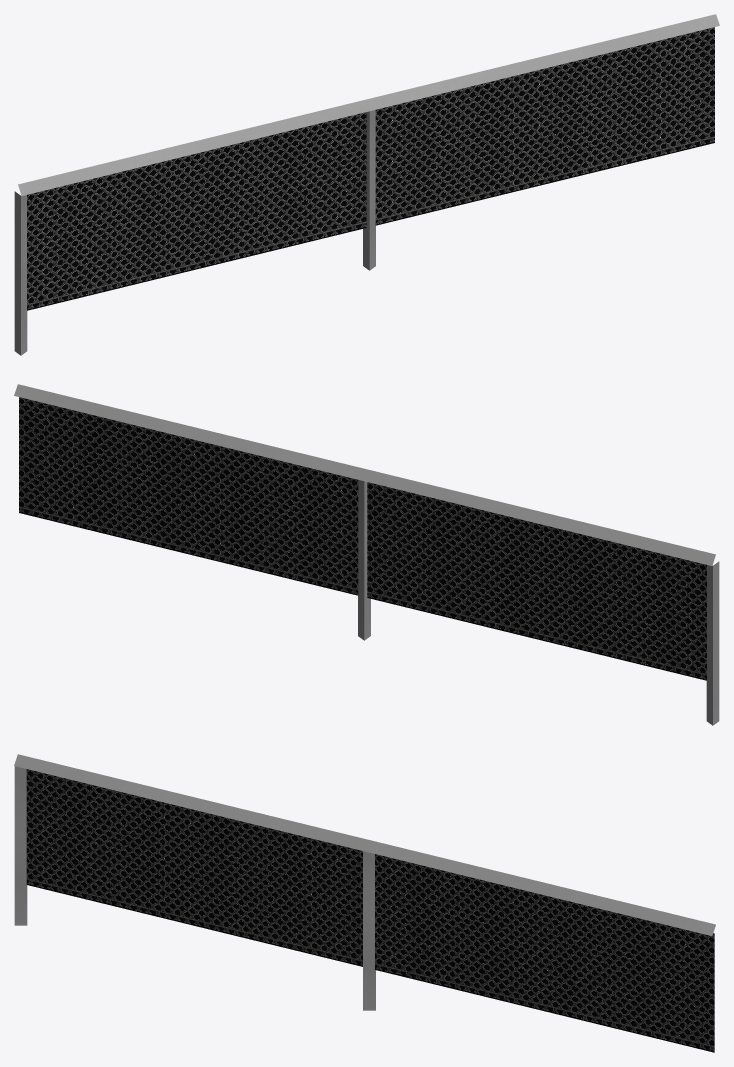
File: fence-chainlink-1rail-2s-cbj_LOD01.gltf
3 views of the same model, one above another, from view 1: azimuth 30°, elevation 25°; view 2: azimuth 150°, elevation 25°; view 3: azimuth 330°, elevation 25° (orthographic).
Parts seen in each view (by area): view 1: chainlink01; view 2: chainlink01; view 3: chainlink01.
Boxes of the visible parts, <box> form: chainlink01: <box>14,14,719,355</box>; chainlink01: <box>14,384,719,725</box>; chainlink01: <box>14,754,715,1052</box>.
Size of what is drawn, in the model's own units: 5.75 by 1.33 by 0.11.
